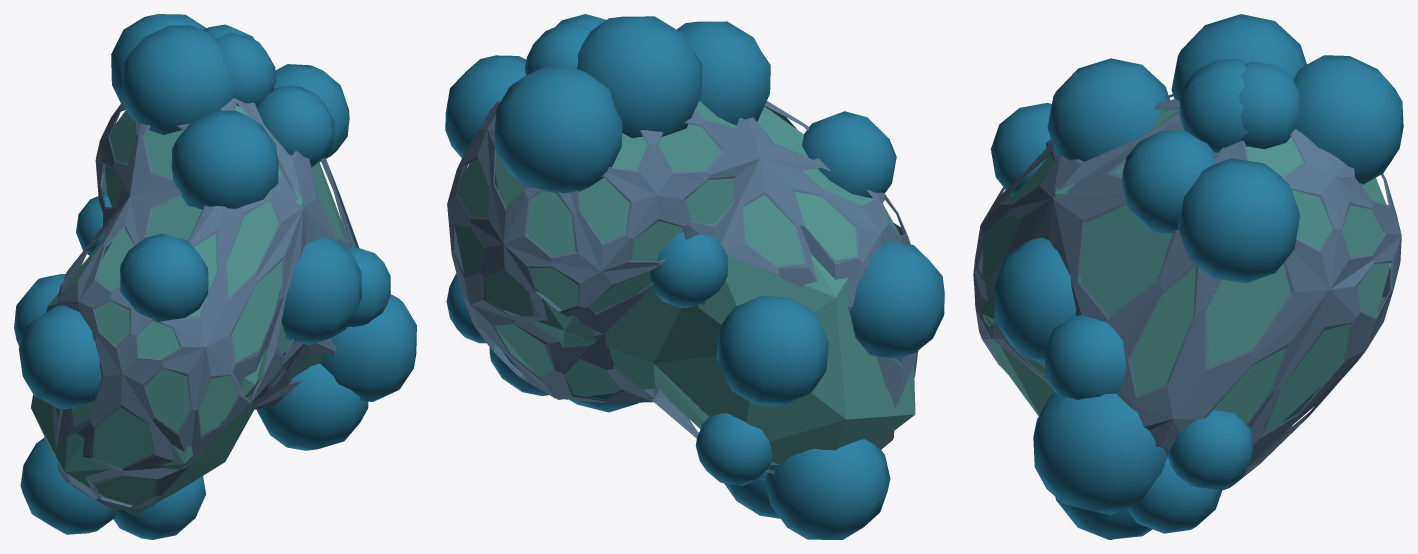
Rendered from glueBush4.fbx.
3 views of the same model, side by side, from view 1: azimuth 30°, elevation 25°; view 2: azimuth 150°, elevation 25°; view 3: azimuth 270°, elevation 25° (orthographic). The views are drawn at different scales.
Parts seen in each view (by area): view 1: Mball.014; view 2: Mball.014; view 3: Mball.014.
Boxes of the visible parts, bbox=[...] form: Mball.014: bbox=[14, 14, 416, 539]; Mball.014: bbox=[445, 14, 944, 539]; Mball.014: bbox=[973, 14, 1403, 539].
Size of the model in its own units: 265 by 297 by 218.
